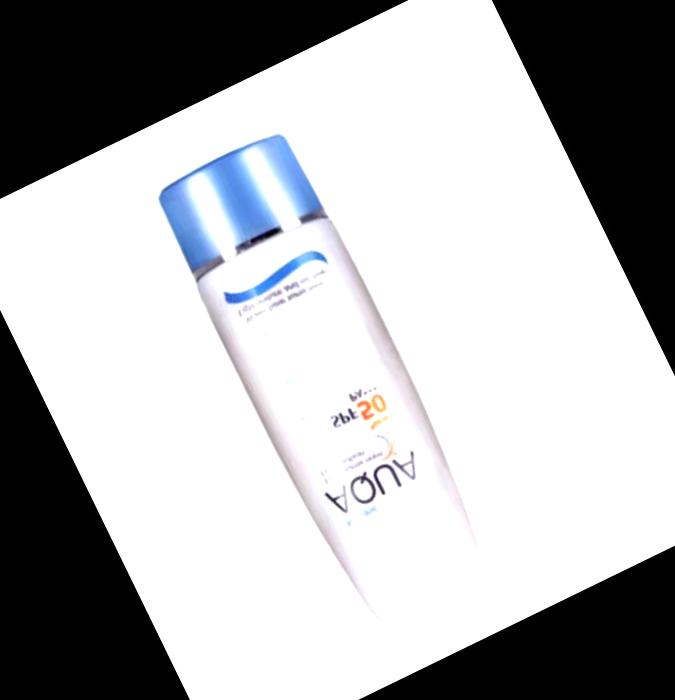cosmetic: (149, 122, 508, 632)
